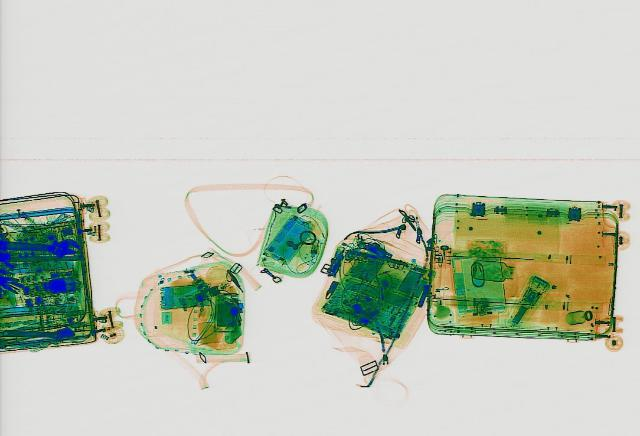Wrench: (0, 233, 80, 258), (2, 322, 76, 339)
